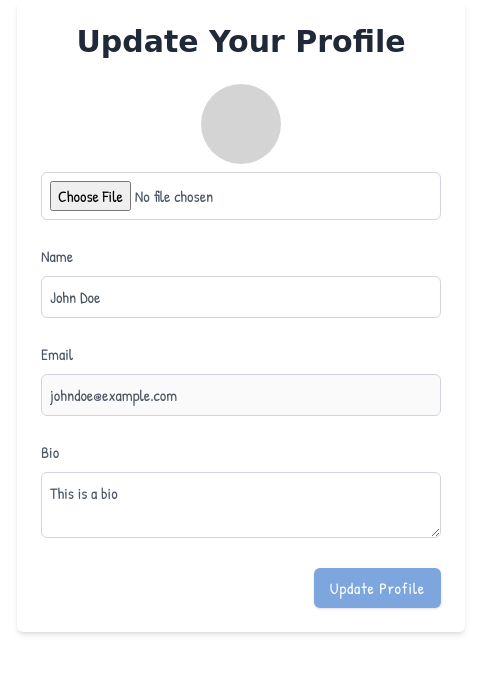
Scenario: UserProfile Component › displays an error message when the form submission fails
Click the button "Update Profile". click: (377, 588)
box: top-left (314, 568), bottom-right (441, 608)
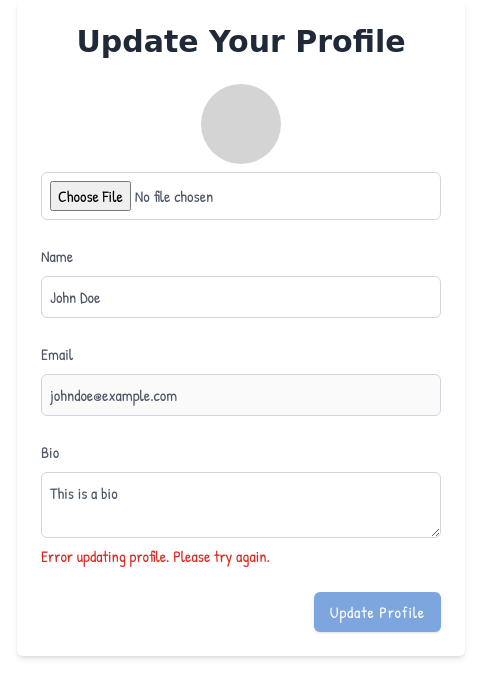
Expected: the text "Error updating profile. Please try again." is shown, top-left (41, 545), bottom-right (270, 567)
